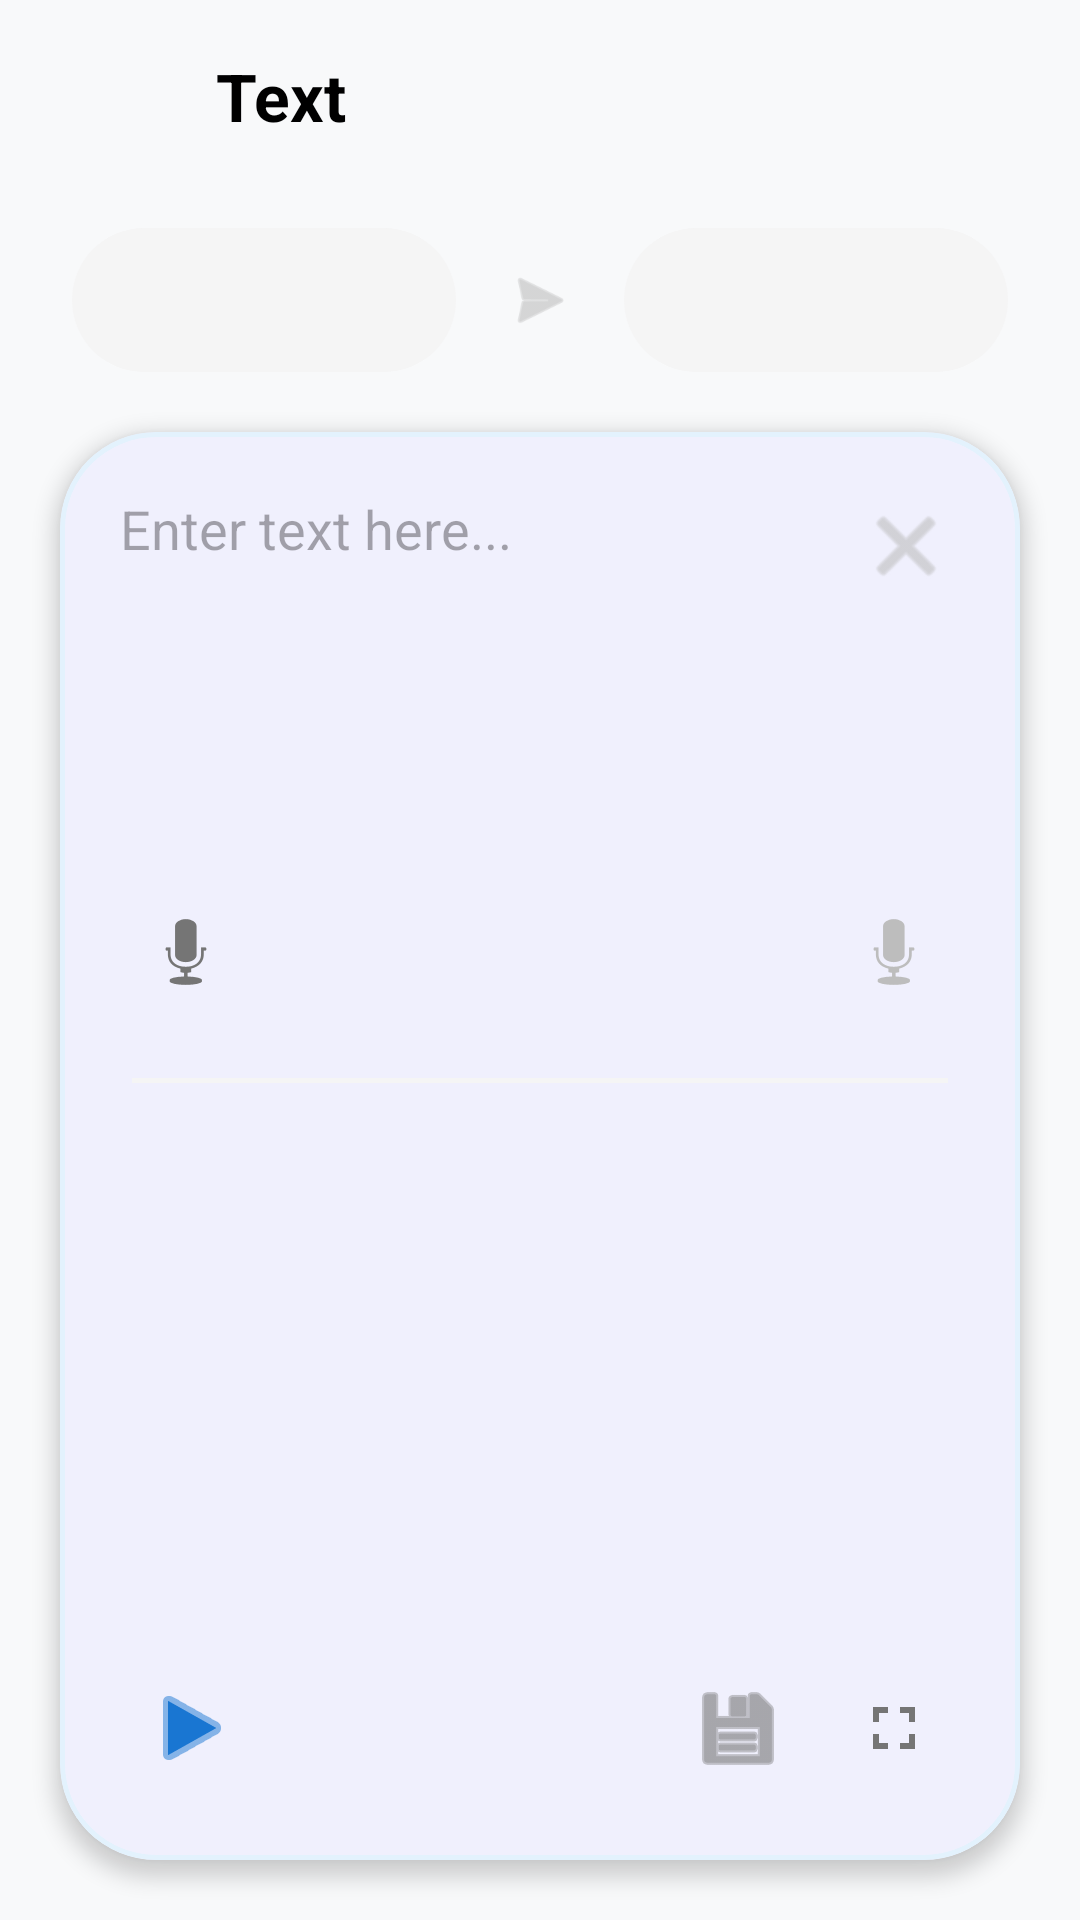

Icon click points for this 1080*1920 phone screenshot, format (x=x, y=y):
Clear: (x=906, y=546)
Full Screen: (x=894, y=1728)
Play: (x=192, y=1728)
send: (x=541, y=300)
Speak: (x=186, y=952)
